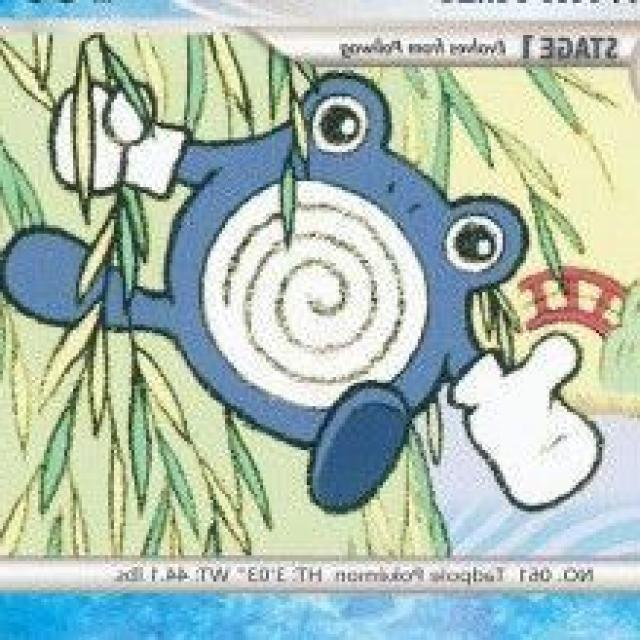Poliwhirl: (108, 67, 538, 467)
